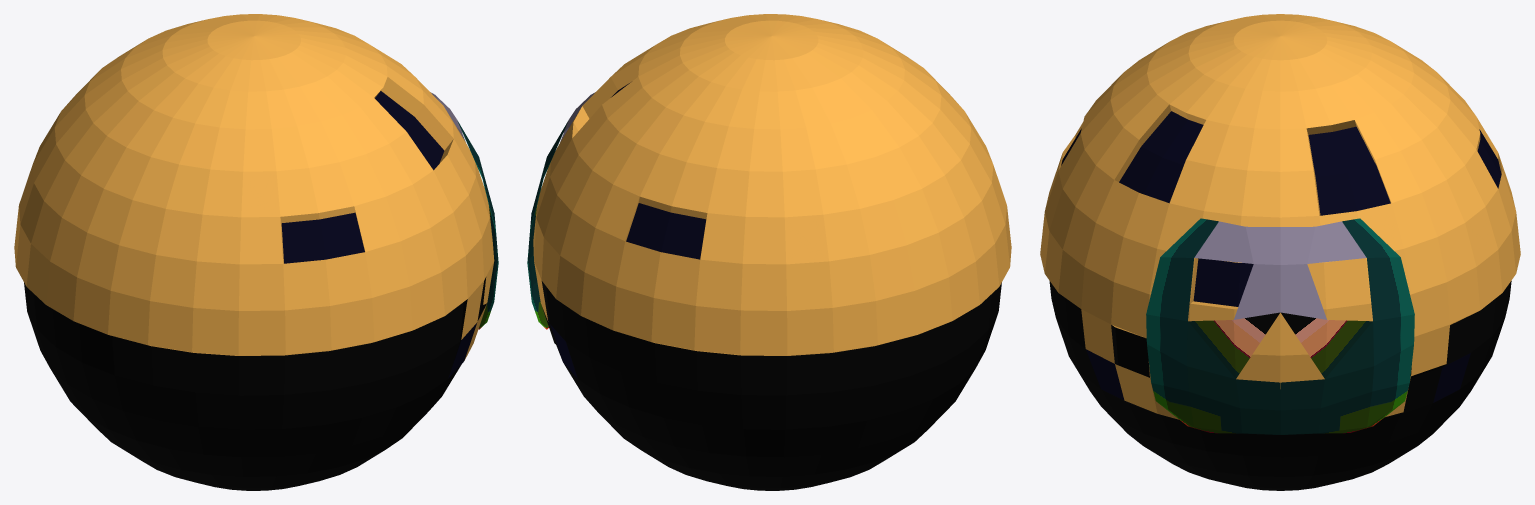
Rendered from Ball.glb.
3 views of the same model, side by side, from view 1: azimuth 30°, elevation 25°; view 2: azimuth 150°, elevation 25°; view 3: azimuth 270°, elevation 25° (orthographic).
Parts seen in each view (by area): view 1: Sphere, Cube; view 2: Sphere, Cube; view 3: Sphere, Cube.
Boxes of the visible parts, bbox=[...] form: Sphere: bbox=[14, 14, 494, 490]; Cube: bbox=[430, 92, 498, 329]; Sphere: bbox=[533, 14, 1011, 490]; Cube: bbox=[527, 92, 595, 329]; Sphere: bbox=[1040, 14, 1520, 490]; Cube: bbox=[1146, 218, 1414, 434].
Bounding box in the file's own units: 5.75 × 5.7 × 5.73.
Materials: 1 (1 with a texture image).
